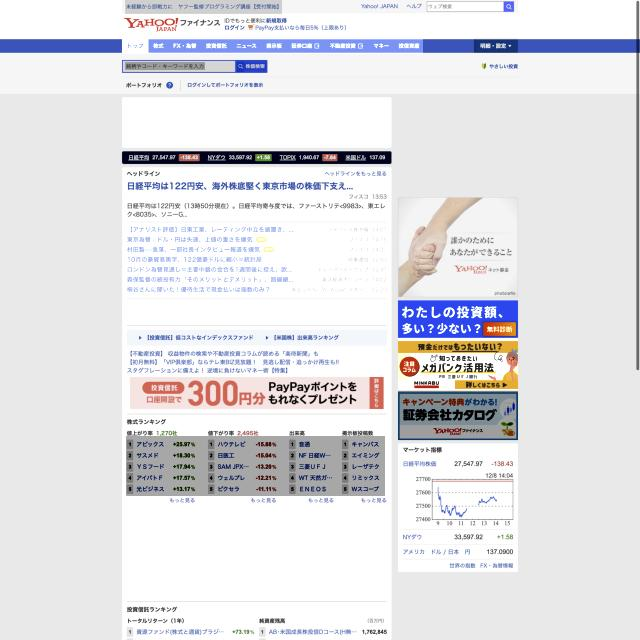CheckedTextView: (122, 60, 268, 73)
ImageView: (396, 197, 520, 298), (398, 300, 518, 390), (398, 391, 518, 440)
QR code: (125, 224, 390, 297), (126, 436, 385, 496), (120, 151, 392, 165)
alert: (476, 38, 518, 52)
carousel: (237, 62, 244, 72)
data feed: (244, 63, 266, 70)
date picker: (123, 15, 180, 34)
decoration: (122, 38, 423, 54), (125, 0, 282, 14)
footer: (125, 62, 205, 70)
